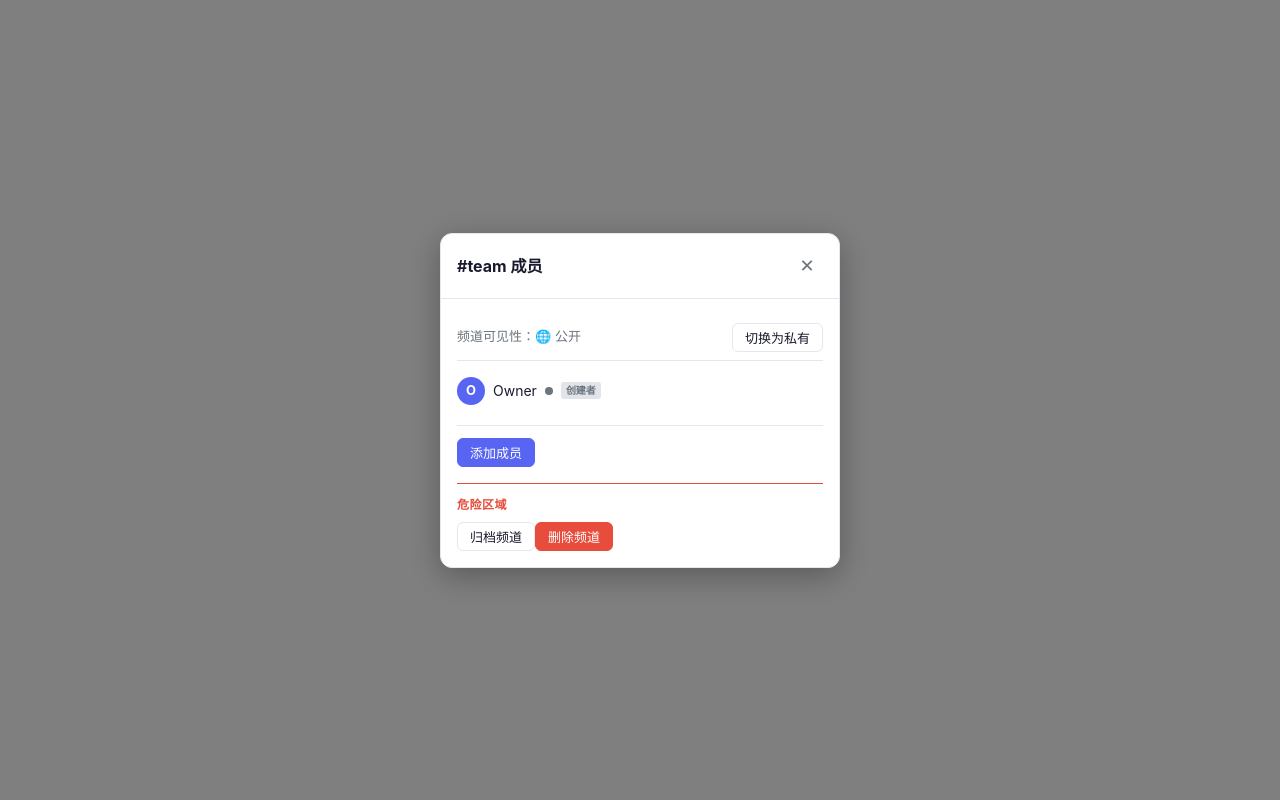
Test: ChannelMembersModal add-member candidate list › includes the caller's owned agents in the candidate list
Click the button "添加成员" at (496, 452), box 457,438 -> 535,466
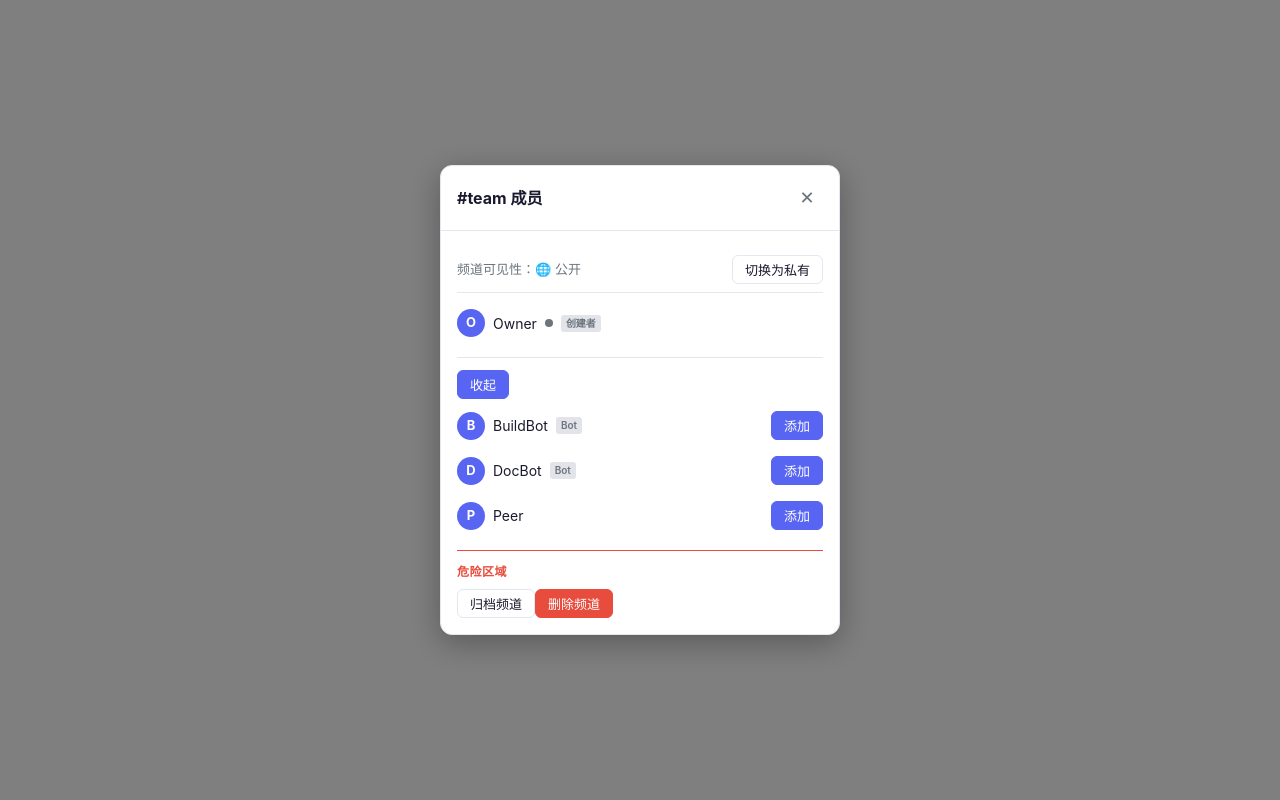
Now the element with class "add-member-list" is shown, box 457,407 -> 823,534
